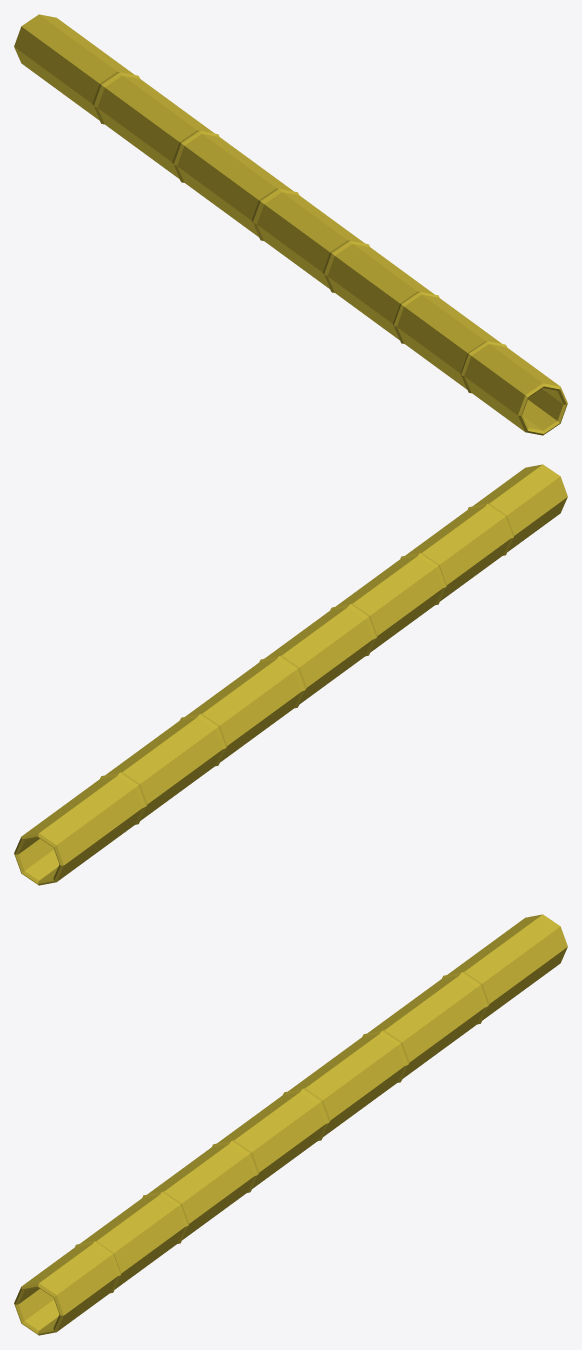
File: Collin_Blowgun.fbx
3 renders of one model, top to bottom at view 1: azimuth 30°, elevation 25°; view 2: azimuth 150°, elevation 25°; view 3: azimuth 330°, elevation 25°, orthographic.
Visible parts, largest first — view 1: Blowgun; view 2: Blowgun; view 3: Blowgun.
Part boxes in pixels (left/top/right/bottom): Blowgun: left=14, top=14, right=567, bottom=435; Blowgun: left=14, top=464, right=567, bottom=885; Blowgun: left=14, top=914, right=567, bottom=1335.
Size of the model in its own units: 2.22 by 2.22 by 36.91.
